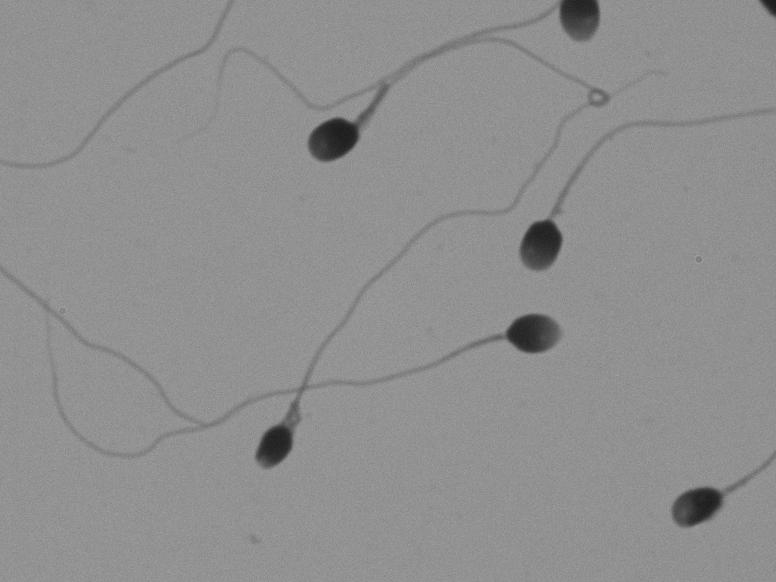Abnormal: (228, 183, 441, 511), (286, 52, 451, 180), (653, 431, 758, 549)
Normal: (511, 85, 767, 289), (318, 295, 573, 417)
